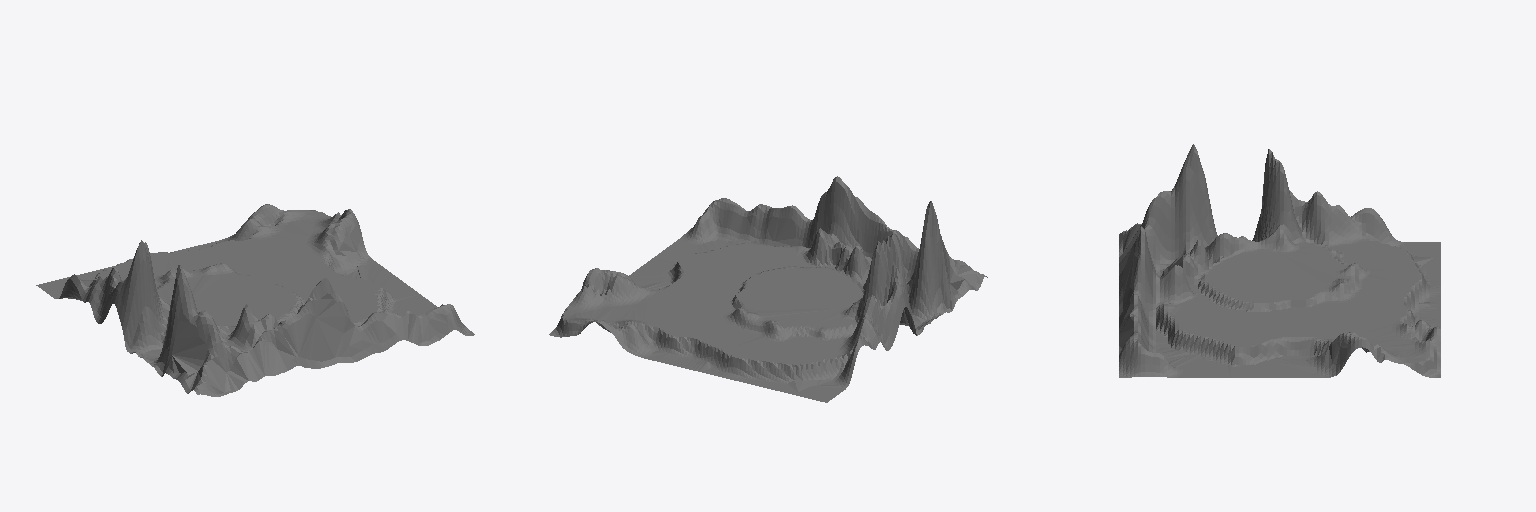
The picture shows the model from 3 angles: view 1: azimuth 30°, elevation 25°; view 2: azimuth 150°, elevation 25°; view 3: azimuth 270°, elevation 25°; orthographic projection.
Visible parts, largest first — view 1: BX_Mesh_01, BX_Mesh_02; view 2: BX_Mesh_01, BX_Mesh_02; view 3: BX_Mesh_01, BX_Mesh_02.
Boxes of the visible parts, <box> form: BX_Mesh_01: <box>36,204,399,347</box>; BX_Mesh_02: <box>79,216,474,396</box>; BX_Mesh_01: <box>549,228,904,402</box>; BX_Mesh_02: <box>629,176,987,350</box>; BX_Mesh_01: <box>1156,149,1440,377</box>; BX_Mesh_02: <box>1119,144,1354,377</box>.
Bounding box in the file's own units: 99.04 × 36.68 × 99.04.